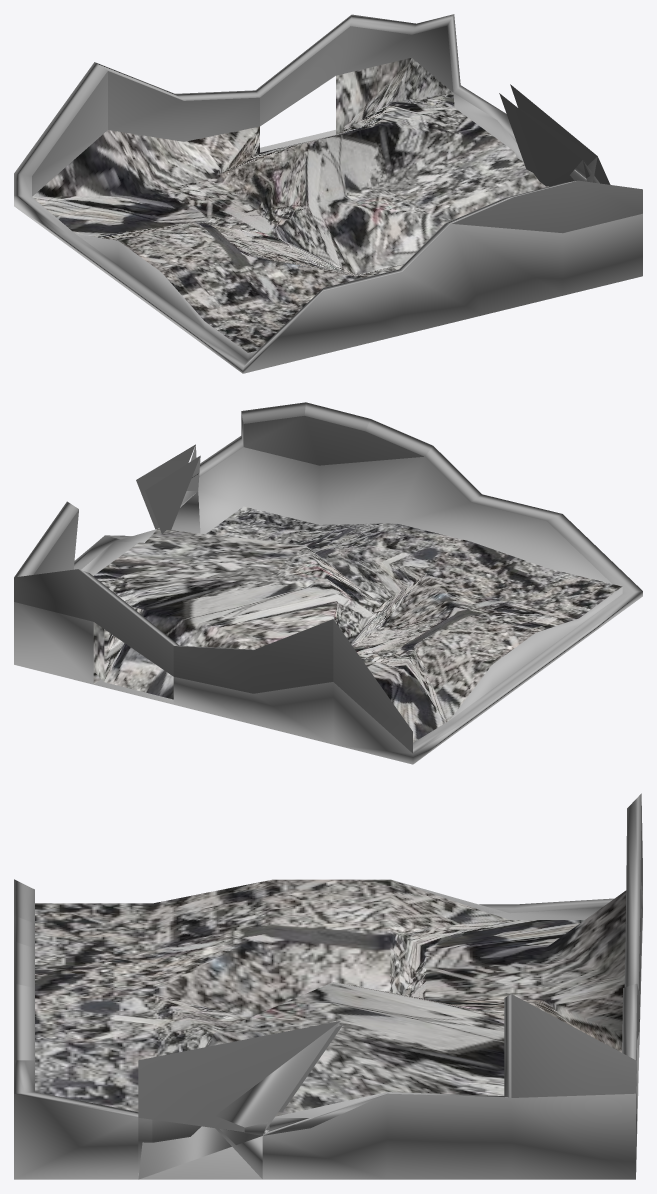
The model's file is Rubble.fbx.
The picture shows the model from 3 angles, top to bottom: view 1: azimuth 30°, elevation 25°; view 2: azimuth 150°, elevation 25°; view 3: azimuth 270°, elevation 25°; orthographic projection. The views are drawn at different scales.
Visible parts, largest first — view 1: polySurface4; view 2: polySurface4; view 3: polySurface4.
Boxes of the visible parts, x1=… form: polySurface4: x1=14, y1=14, x2=642, y2=373; polySurface4: x1=14, y1=402, x2=642, y2=764; polySurface4: x1=14, y1=793, x2=642, y2=1179.
Bounding box in the file's own units: 1.31 × 0.3968 × 1.25.
Materials: 5 (1 with a texture image).
